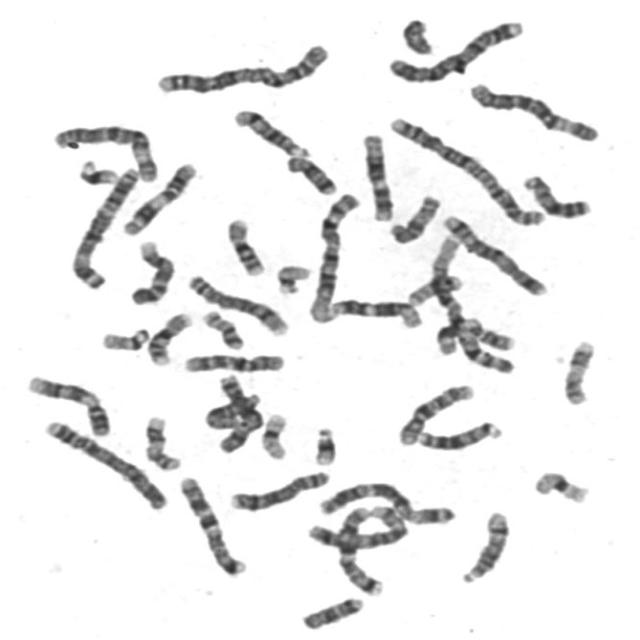A1: (426, 227, 520, 375), (304, 187, 364, 325)
A2: (384, 111, 550, 228), (149, 36, 334, 97)
A3: (66, 162, 144, 291), (314, 476, 460, 527)
B4: (38, 414, 172, 512), (384, 14, 528, 86)
B5: (436, 209, 551, 298), (303, 502, 412, 552)
C10: (392, 378, 478, 447), (179, 347, 288, 375)
C11: (117, 156, 201, 237), (430, 314, 520, 357)
C12: (357, 128, 398, 223), (324, 293, 426, 330)
C6: (464, 76, 604, 144), (49, 118, 162, 184)
C7: (173, 471, 251, 578), (332, 500, 388, 598)
C8: (182, 269, 292, 337), (225, 464, 334, 513)
C9: (21, 369, 114, 438), (125, 235, 178, 306)
D13: (517, 169, 595, 221), (412, 415, 505, 452)
D14: (228, 103, 314, 159), (455, 505, 514, 585)
D15: (384, 189, 444, 246), (196, 394, 278, 426)
E16: (221, 212, 270, 278), (143, 308, 196, 367)
E17: (558, 334, 600, 407), (138, 411, 184, 472)
E18: (296, 592, 368, 632), (281, 151, 341, 196)
F19: (529, 466, 593, 505), (255, 407, 293, 461)
F20: (197, 304, 248, 351), (404, 270, 467, 308)
G21: (72, 154, 121, 187), (308, 420, 341, 468)
G22: (96, 322, 153, 353), (272, 259, 314, 296)
X: (211, 372, 264, 454)
Y: (397, 12, 437, 56)
